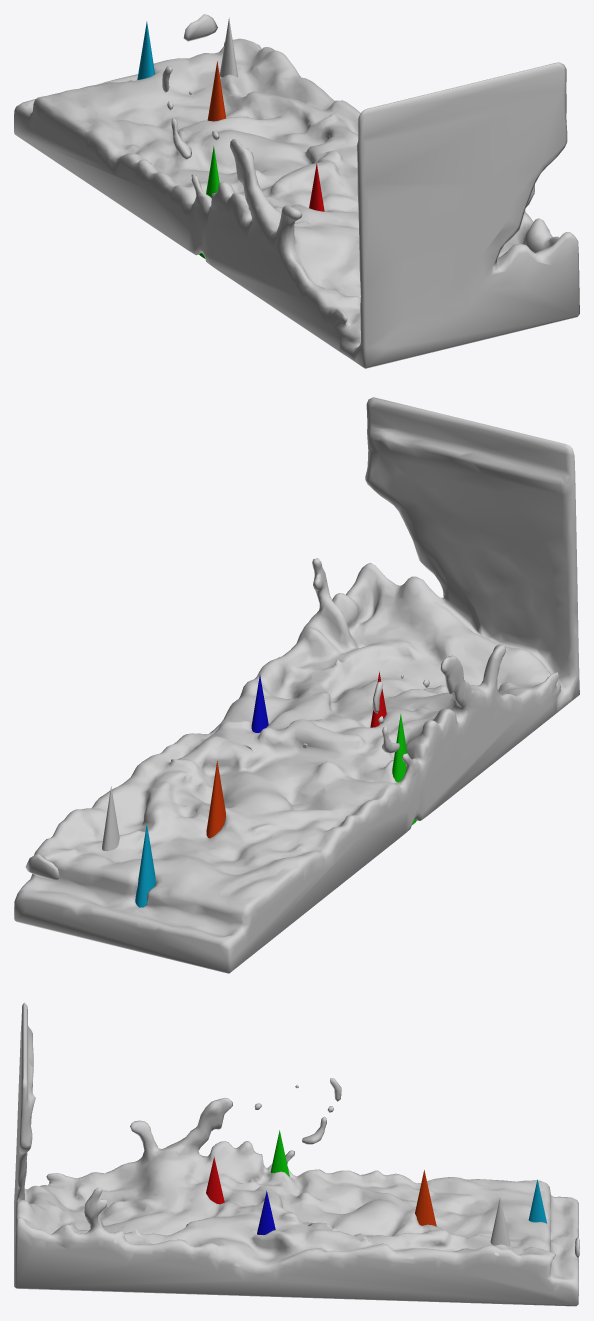
3 renders of one model, top to bottom at view 1: azimuth 30°, elevation 25°; view 2: azimuth 150°, elevation 25°; view 3: azimuth 270°, elevation 25°, orthographic. The views are drawn at different scales.
Visible parts, largest first — view 1: Liquid_Domain, 円錐.004, 円錐, 円錐.005; view 2: Liquid_Domain, 円錐.005, 円錐.004; view 3: Liquid_Domain, 円錐.004, 円錐, 円錐.001, 円錐.002, 円錐.005, 円錐.003.
Part boxes in pixels (x1,y1,x2,y2): Liquid_Domain: [14, 14, 579, 368]; 円錐.004: [207, 61, 225, 121]; 円錐: [219, 17, 237, 77]; 円錐.005: [137, 21, 154, 79]; Liquid_Domain: [14, 397, 579, 973]; 円錐.005: [135, 823, 155, 907]; 円錐.004: [206, 761, 225, 838]; Liquid_Domain: [14, 1002, 579, 1306]; 円錐.004: [415, 1170, 436, 1226]; 円錐: [490, 1197, 510, 1246]; 円錐.001: [206, 1157, 224, 1204]; 円錐.002: [257, 1190, 275, 1234]; 円錐.005: [528, 1179, 547, 1223]; 円錐.003: [270, 1130, 289, 1176].
Size of the model in its own units: 129 by 158 by 362.
